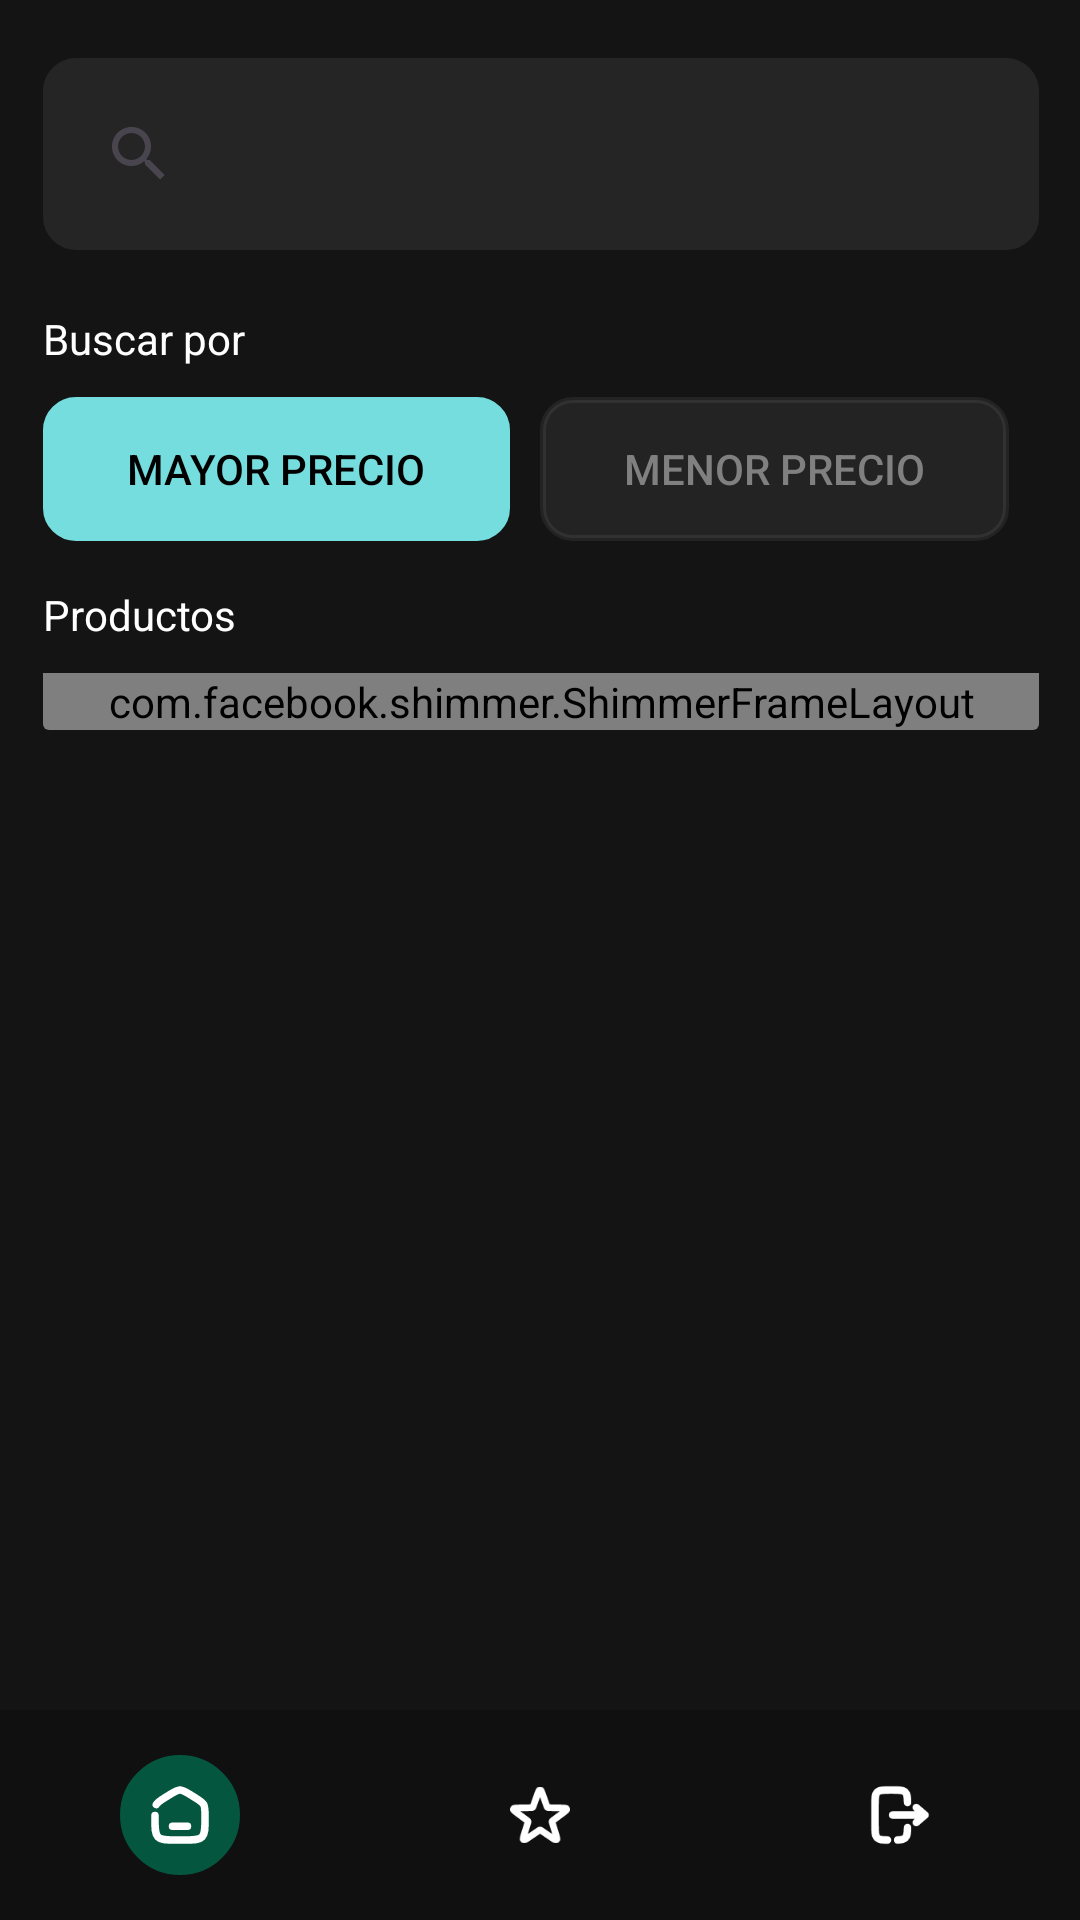

Where to tap for icons on this 1080w x 1920h app screen, as (x=x, y=y):
home: (x=180, y=1815)
star: (x=540, y=1815)
